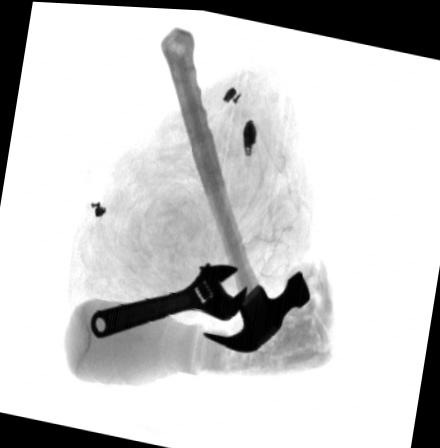Hammer: (160, 23, 310, 349)
Wrench: (90, 258, 249, 337)
